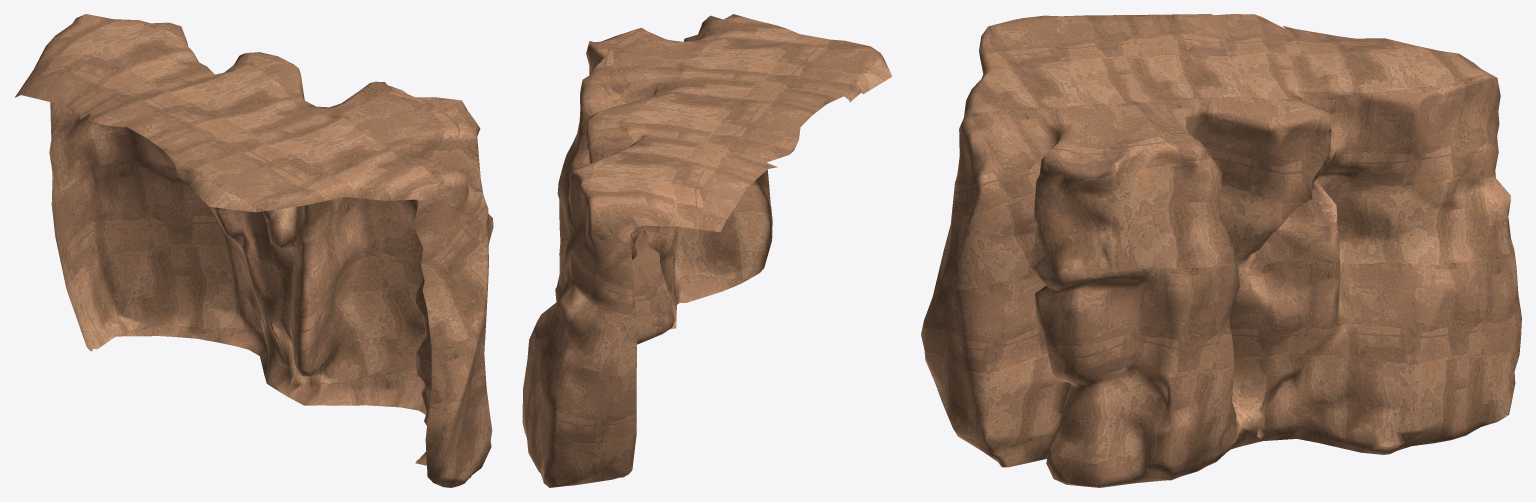
File: Ob_RockCliff20.fbx
3 renders of one model, left to right at view 1: azimuth 30°, elevation 25°; view 2: azimuth 150°, elevation 25°; view 3: azimuth 270°, elevation 25°, orthographic. The views are drawn at different scales.
Parts seen in each view (by area): view 1: Ob_RockCliff20; view 2: Ob_RockCliff20; view 3: Ob_RockCliff20.
Boxes of the visible parts, x1=… form: Ob_RockCliff20: x1=15, y1=14, x2=493, y2=487; Ob_RockCliff20: x1=522, y1=14, x2=892, y2=487; Ob_RockCliff20: x1=921, y1=14, x2=1521, y2=487.
Bounding box in the file's own units: 24181 × 25502 × 40133.
